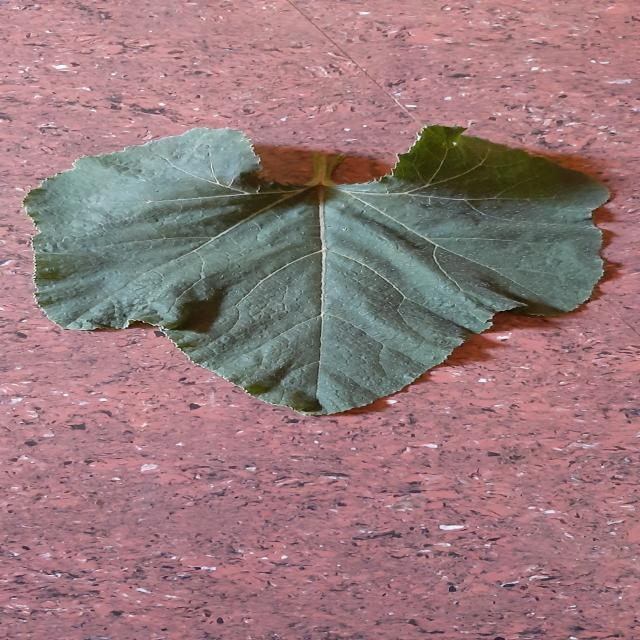pumpkin: (24, 126, 607, 414)
